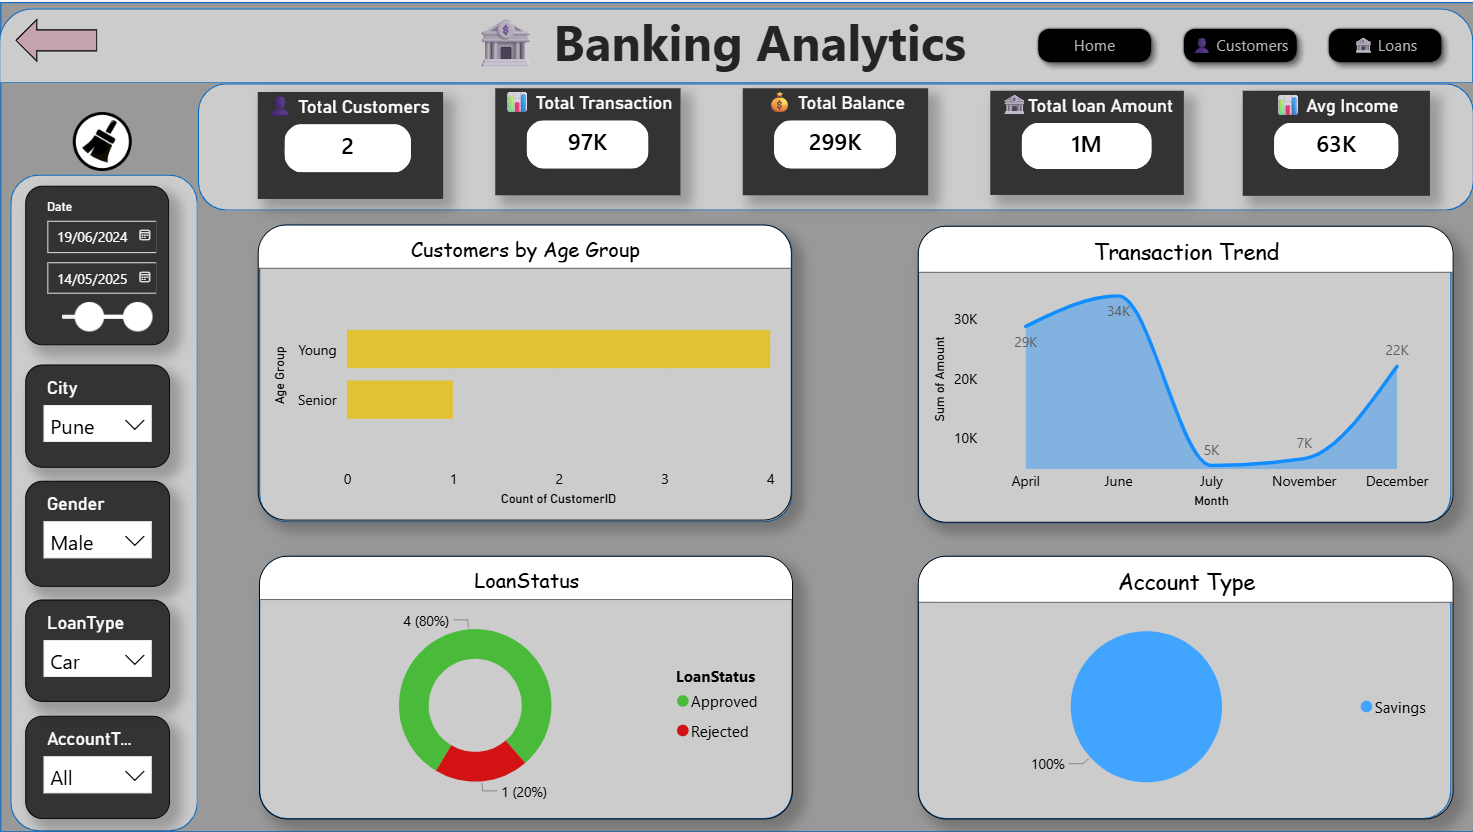

The dashboard page shown, as its layout file describes it:
{"tool":"powerbi","page":{"name":"  📊Overview","canvas":[1280,720],"ordinal":1},"visuals":[{"type":"shape","box":[0.6,0,1279.4,720.3],"z":0},{"type":"shape","box":[0,5.8,1279.1,65.1],"z":1000},{"type":"shape","box":[9.3,150,162.8,569.8],"z":2000},{"type":"shape","box":[172.1,70.9,1107,110.5],"z":3000},{"type":"shape","box":[225.1,193,462.9,258.5],"z":4000},{"type":"textbox","box":[405.5,0,874.9,76.7],"z":5000},{"type":"cardVisual","title":"💰Total Balance","fields":{"Data":["BankData.Total Balance"]},"box":[847.5,560.7,127.9,91.3],"z":6000},{"type":"clusteredBarChart","title":"Customers by Age Group","fields":{"Y":["CountNonNull(BankData.CustomerID)"],"Category":["BankData.Age Group"]},"box":[224.2,193.3,462.9,256.6],"z":7000},{"type":"slicer","fields":{"Values":["BankData.Date"]},"box":[23.1,159.3,124.8,138.4],"z":8000},{"type":"slicer","fields":{"Values":["BankData.City"]},"box":[23,314.7,125.2,89.6],"z":9000},{"type":"slicer","fields":{"Values":["BankData.Gender"]},"box":[23,415.8,125.2,91.9],"z":10000},{"type":"slicer","fields":{"Values":["BankData.LoanType"]},"box":[23,518.1,125.2,88.4],"z":11000},{"type":"slicer","fields":{"Values":["BankData.AccountType"]},"box":[23,619.1,125.2,89.6],"z":12000},{"type":"shape","box":[797.2,194.1,462.9,258.5],"z":13000},{"type":"lineChart","title":"Transaction Trend","fields":{"Category":["BankData.Date.Variation.Date Hierarchy.Month","BankData.Date.Variation.Date Hierarchy.Day"],"Y":["Sum(BankData.Amount)"]},"box":[796.7,193.9,464.4,257.9],"z":14000},{"type":"shape","box":[225.1,480.2,462.9,228.6],"z":15000},{"type":"donutChart","title":"LoanStatus","fields":{"Category":["BankData.LoanStatus"],"Y":["CountNonNull(BankData.LoanID)"]},"box":[225.1,480.2,462.9,228.6],"z":16000},{"type":"shape","box":[797.2,480.2,462.9,228.6],"z":17000},{"type":"pieChart","title":"Account Type","fields":{"Category":["BankData.AccountType"],"Y":["CountNonNull(BankData.CustomerID)"]},"box":[796.7,480.1,464.4,228.5],"z":18000},{"type":"shape","box":[14.6,14.6,71.2,38.4],"z":19000},{"type":"actionButton","box":[23.7,18.3,67.6,32.9],"z":20000},{"type":"cardVisual","title":"📊 Avg Income","fields":{"Data":["BankData.Average Income"]},"box":[1079.5,76.7,162.6,91.3],"z":21000},{"type":"cardVisual","title":"📊 Total Transaction","fields":{"Data":["BankData.Total Transactions"]},"box":[431.1,74.9,162.6,93.2],"z":22000},{"type":"cardVisual","title":"🏦Total loan Amount","fields":{"Data":["BankData.Total Loan Amount"]},"box":[867.6,76.7,160.7,91.3],"z":23000},{"type":"cardVisual","title":"👤 Total Customers","fields":{"Data":["BankData.Total Customers"]},"box":[224.7,78.5,160.7,93.2],"z":24000},{"type":"cardVisual","title":"💰 Total Balance","fields":{"Data":["BankData.Total Balance"]},"box":[644.8,74.9,160.7,93.2],"z":25000},{"type":"image","box":[49.3,95,82.2,51.1],"z":26000},{"type":"actionButton","box":[57,95.3,74.4,48.8],"z":27000},{"type":"actionButton","box":[11.5,14.8,78.7,39.3],"z":28000},{"type":"pageNavigator","box":[892.5,13.8,368.7,47.1],"z":29000}]}

Visuals, with their boxes in screenshot pixels (x1, y1, x2, y2), scaled from the page's 1280x720 canvas onto the 1473x832 screenshot:
shape: (1, 0, 1472, 831)
shape: (0, 7, 1472, 82)
shape: (11, 173, 198, 831)
shape: (198, 82, 1472, 210)
shape: (259, 223, 792, 522)
textbox: (467, 0, 1472, 89)
"💰Total Balance" cardVisual: (975, 648, 1122, 753)
"Customers by Age Group" clusteredBarChart: (258, 223, 791, 520)
slicer - BankData.Date: (27, 184, 170, 344)
slicer - BankData.City: (26, 364, 171, 467)
slicer - BankData.Gender: (26, 480, 171, 587)
slicer - BankData.LoanType: (26, 599, 171, 701)
slicer - BankData.AccountType: (26, 715, 171, 819)
shape: (917, 224, 1450, 523)
"Transaction Trend" lineChart: (917, 224, 1451, 522)
shape: (259, 555, 792, 819)
"LoanStatus" donutChart: (259, 555, 792, 819)
shape: (917, 555, 1450, 819)
"Account Type" pieChart: (917, 555, 1451, 819)
shape: (17, 17, 99, 61)
actionButton: (27, 21, 105, 59)
"📊 Avg Income" cardVisual: (1242, 89, 1429, 194)
"📊 Total Transaction" cardVisual: (496, 87, 683, 194)
"🏦Total loan Amount" cardVisual: (998, 89, 1183, 194)
"👤 Total Customers" cardVisual: (259, 91, 444, 198)
"💰 Total Balance" cardVisual: (742, 87, 927, 194)
image: (57, 110, 151, 169)
actionButton: (66, 110, 151, 167)
actionButton: (13, 17, 104, 63)
pageNavigator: (1027, 16, 1451, 70)
